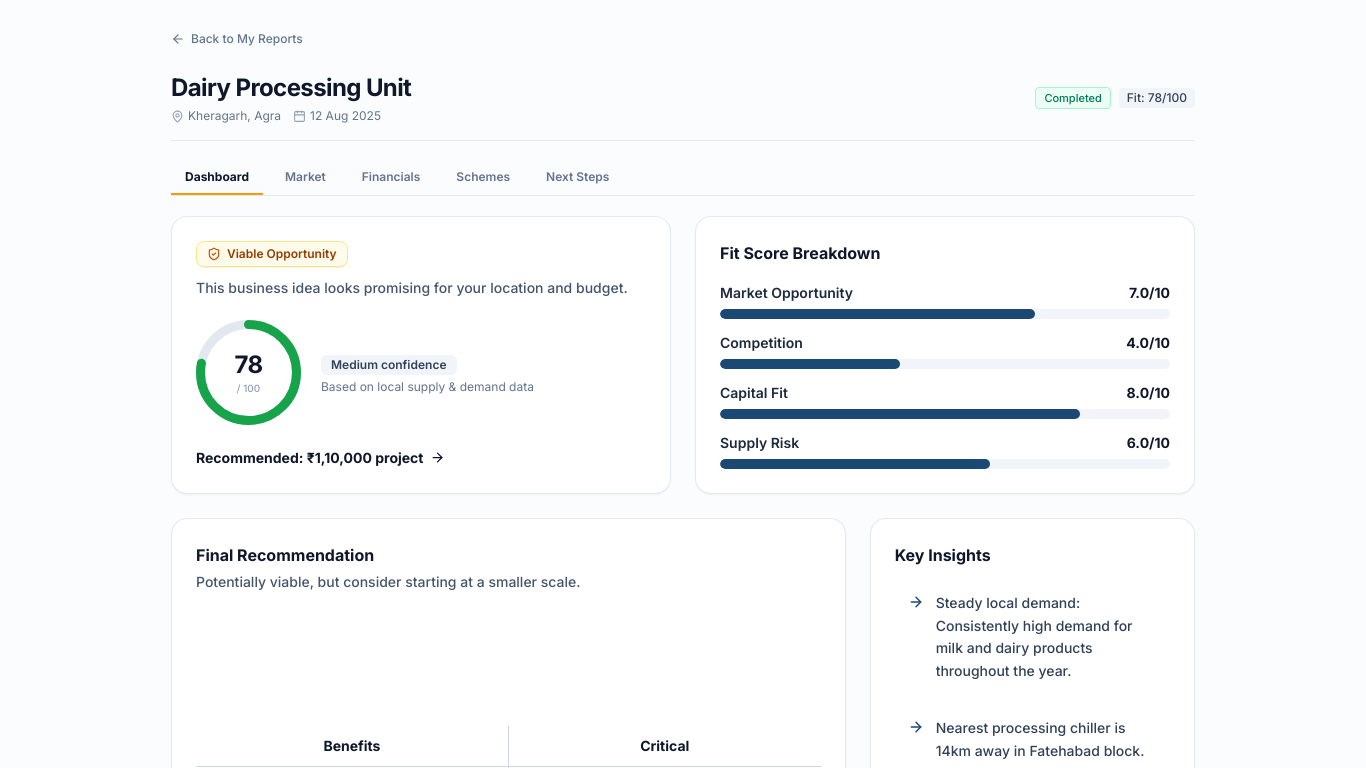
it: ReportScreen (Feasibility Dashboard) › switches to Financials tab and displays Eligibility vs. Suitability
The width and height of the screenshot is (1366, 768).
Click the button "Financials": (391, 178) [348, 161, 434, 195]
(page scrolled)
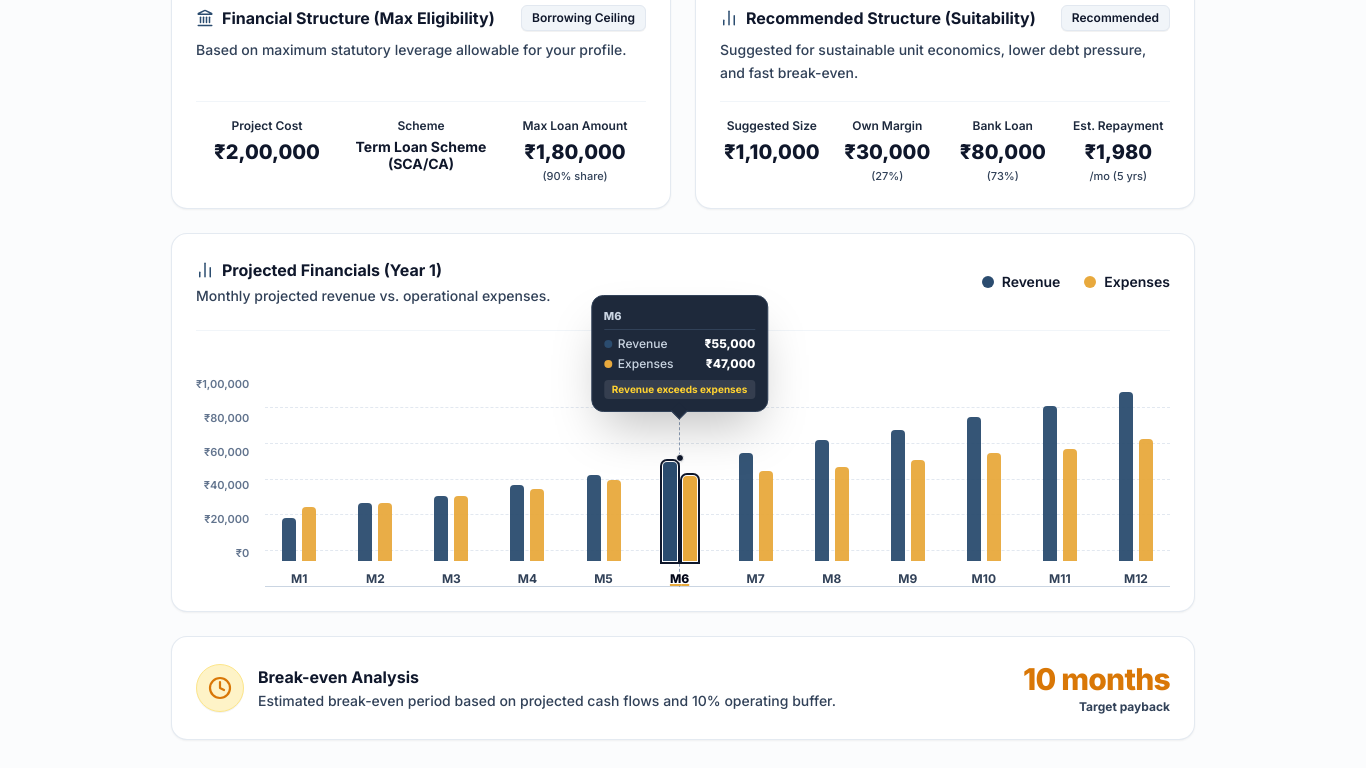
Expected: the heading "Financial Structure (Max Eligibility)" is shown, [222, 6, 495, 30]
Expected: the heading "Recommended Structure (Suitability)" is shown, [746, 6, 1036, 30]
Expected: the heading "Projected Financials (Year 1)" is shown, [222, 258, 442, 282]
